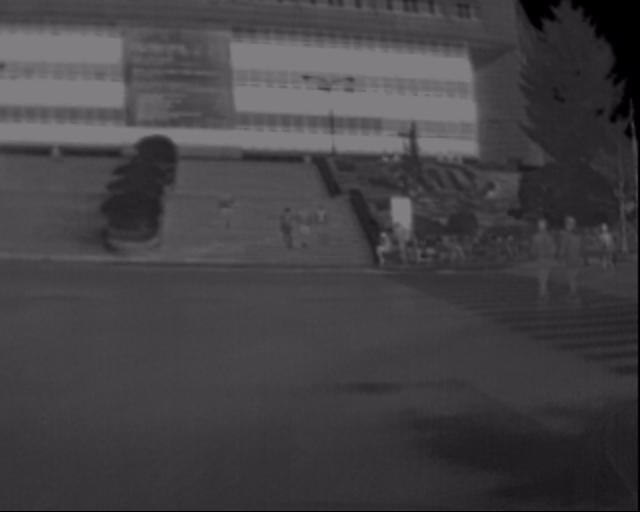person: (522, 213, 567, 311), (552, 214, 586, 306), (199, 183, 233, 242), (591, 223, 623, 282), (267, 201, 296, 257), (288, 198, 315, 255), (303, 202, 331, 251)
